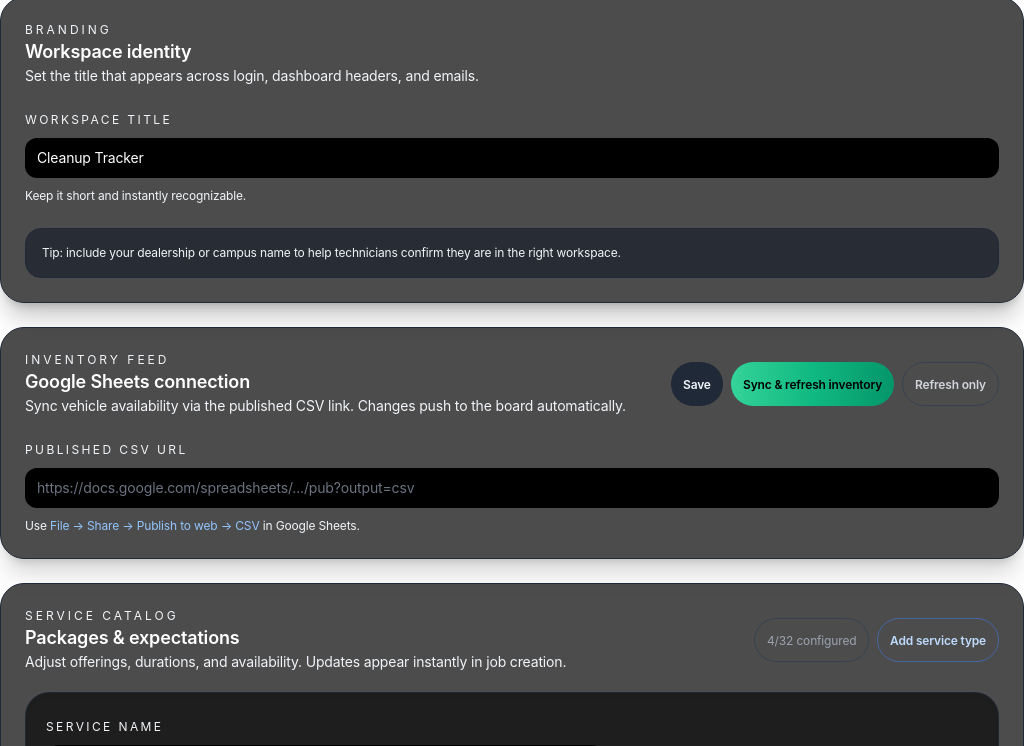
SettingsView › refreshes inventory after saving when using Save & Import
This screenshot has width=1024, height=746.
(page scrolled)
What coordinates should you click on to do the following:
click the button "Sync & refresh inventory"
I would click on:
 (812, 384)
Its box is [731,362,894,406].
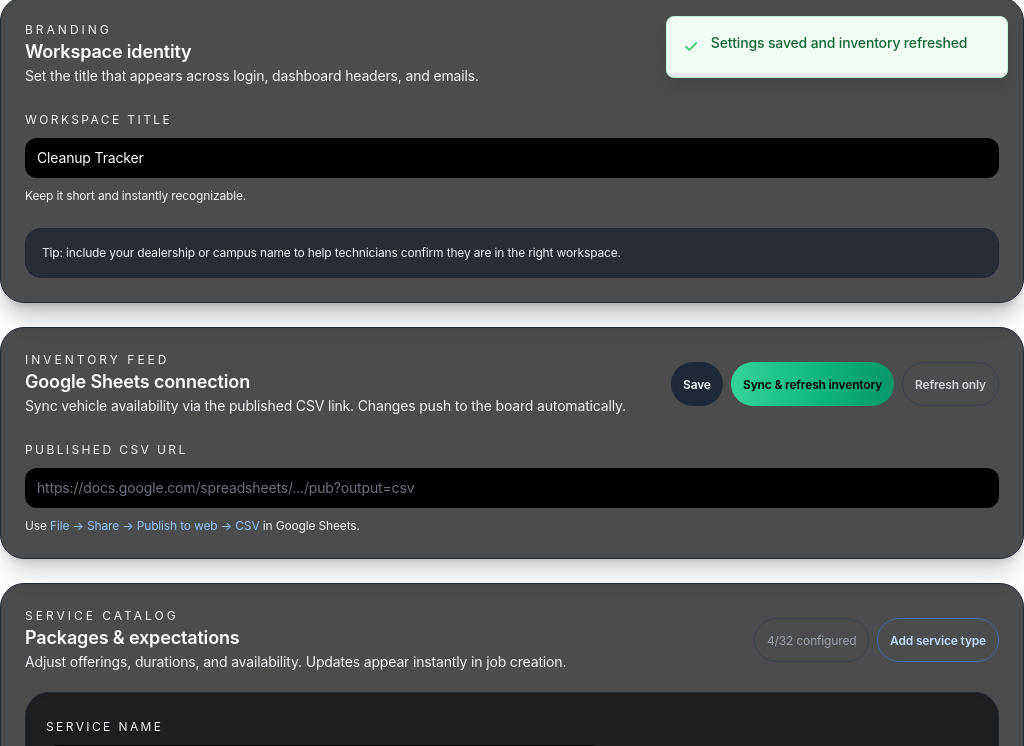
Expected: the text "Settings saved and inventory refreshed" is shown, [710,33,967,53]
